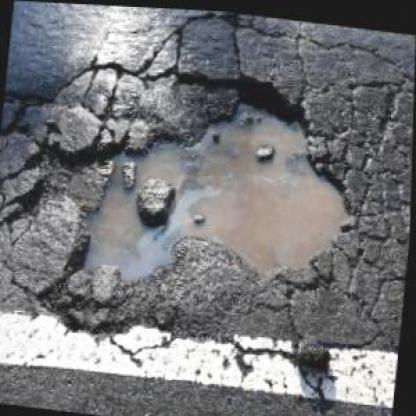pothole: (33, 44, 373, 360)
